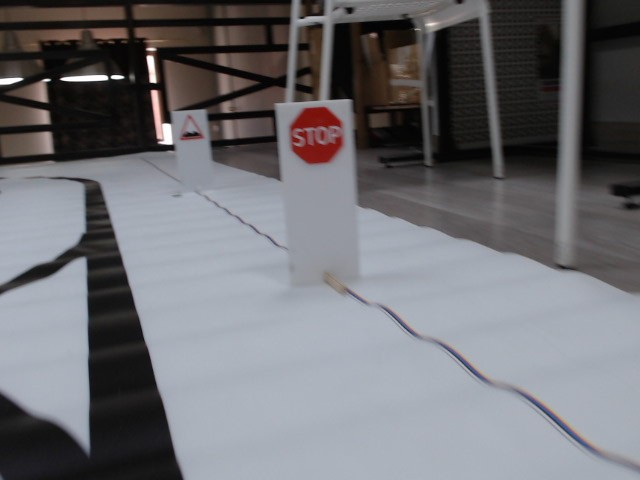Nerov: (178, 114, 205, 141)
Stop: (291, 105, 345, 163)
